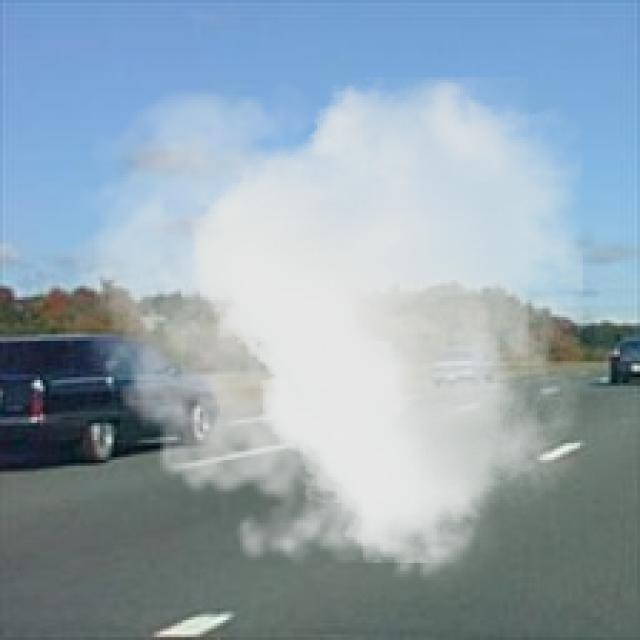Smoke: (54, 77, 583, 594)
